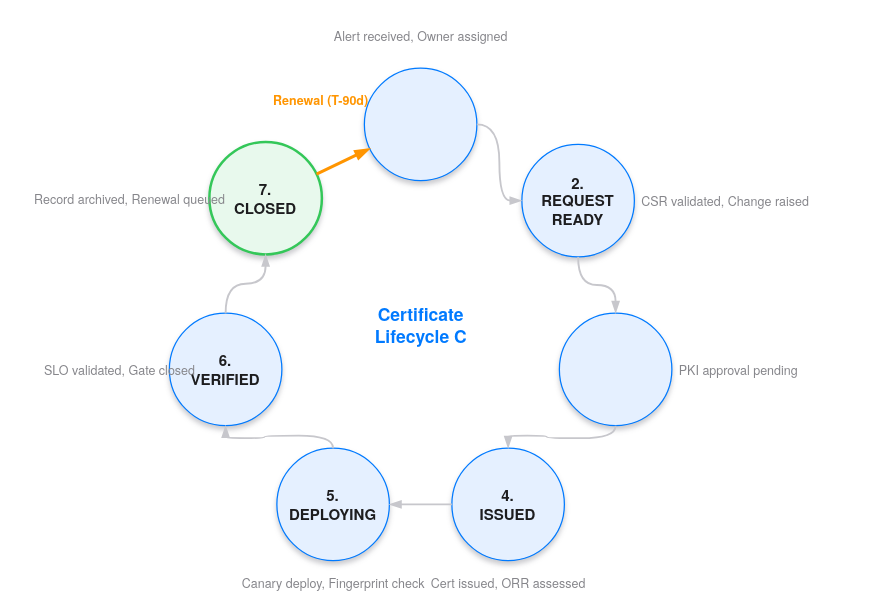
This 873x616 diagram has some shape labels left out. Here are the shapes that lost their labels. From the top down, the centre of each, then its label:
At pixel 420 125: "1. TRIAGE".
At pixel 615 370: "3. PENDING APPROVAL".
